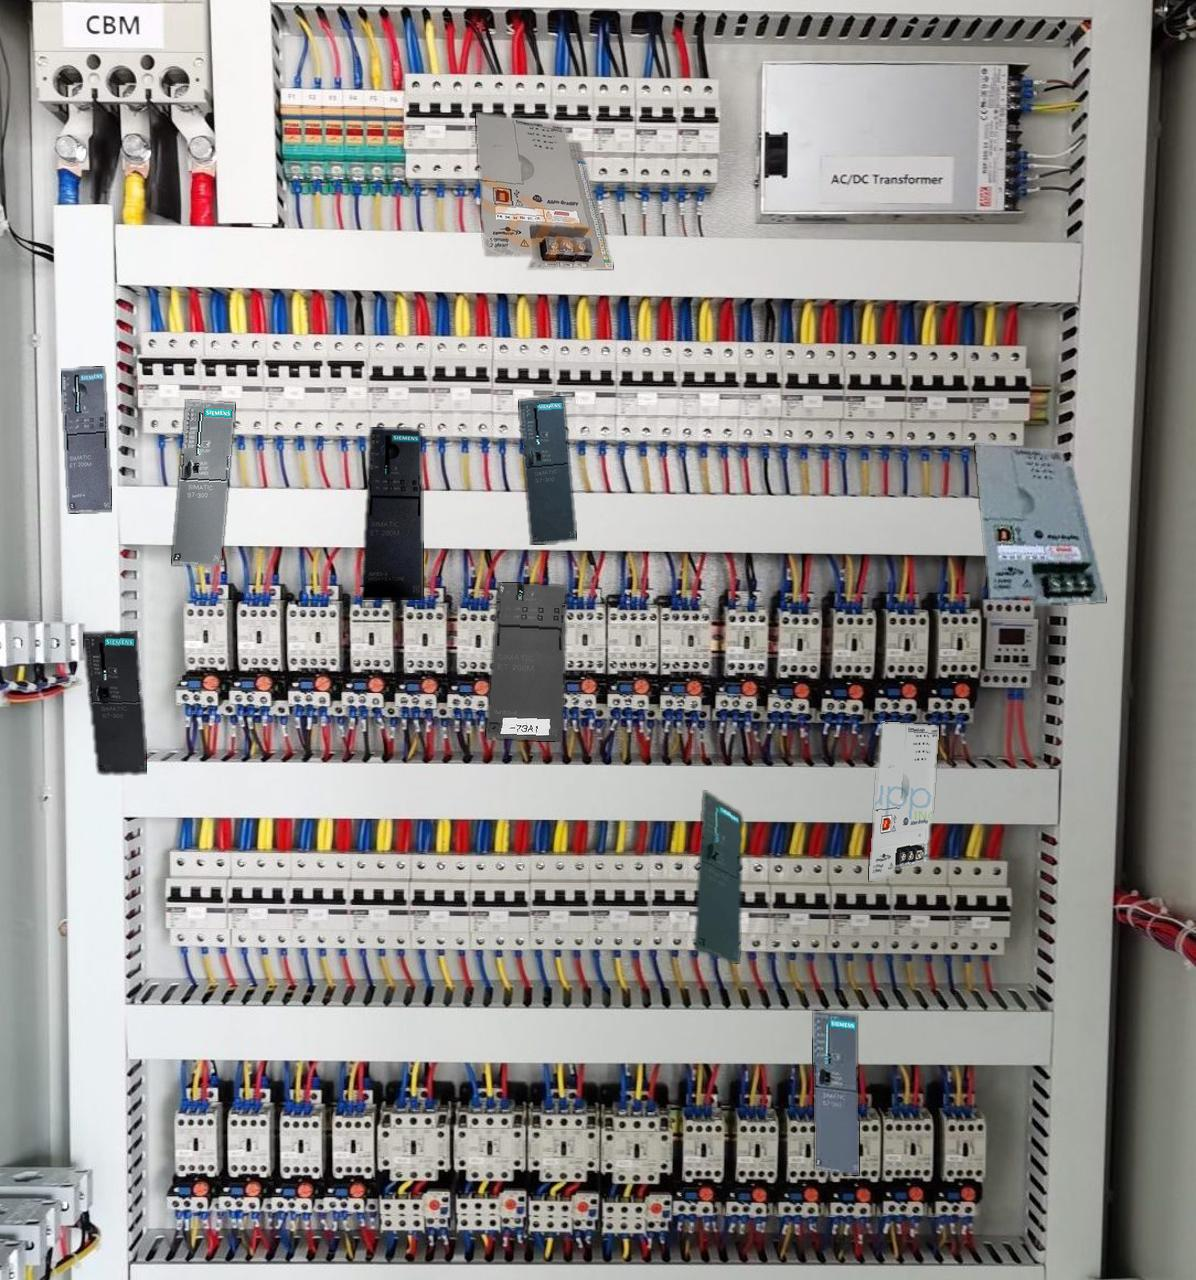AllenBradley: (475, 112, 611, 267), (975, 444, 1105, 603), (869, 721, 937, 880)
Siemens: (172, 400, 234, 565), (83, 632, 146, 773), (519, 396, 576, 544), (695, 791, 741, 962), (813, 1011, 858, 1174)
